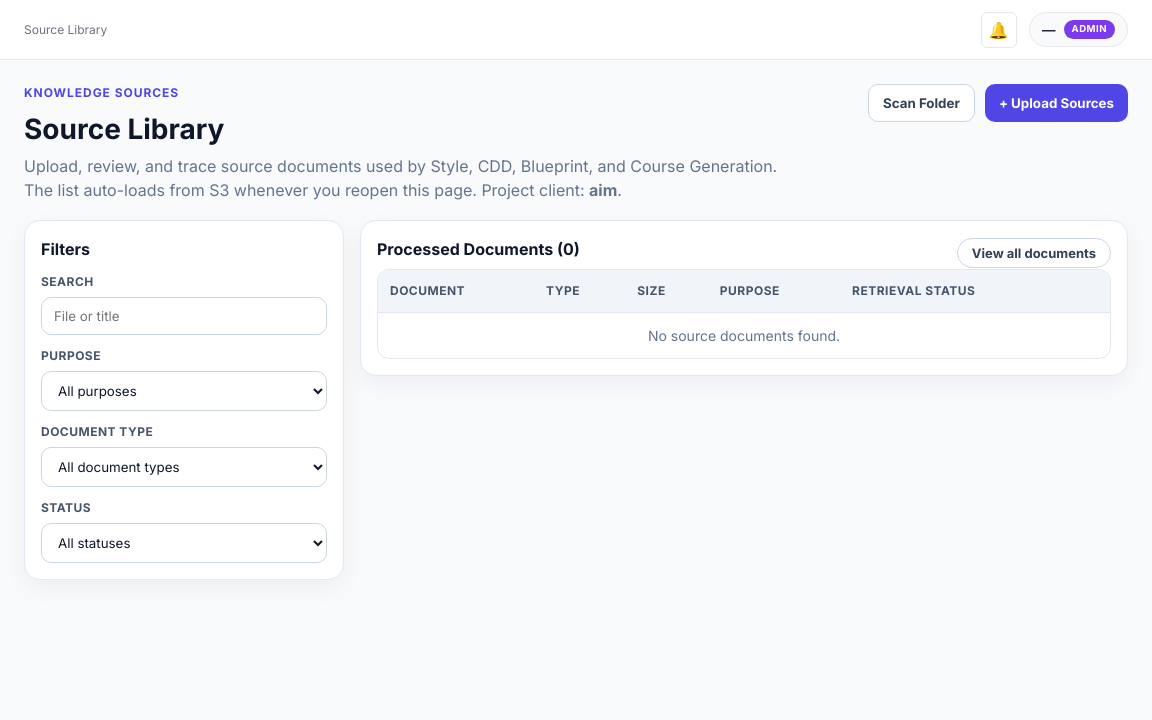
it: SourceLibraryPage upload metadata › preserves free-text document_type when no controlled values are configured
What coordinates should you click on to do the following:
click the button "+ Upload Sources"
I would click on:
 (1056, 103)
Its box is left=985, top=84, right=1128, bottom=122.
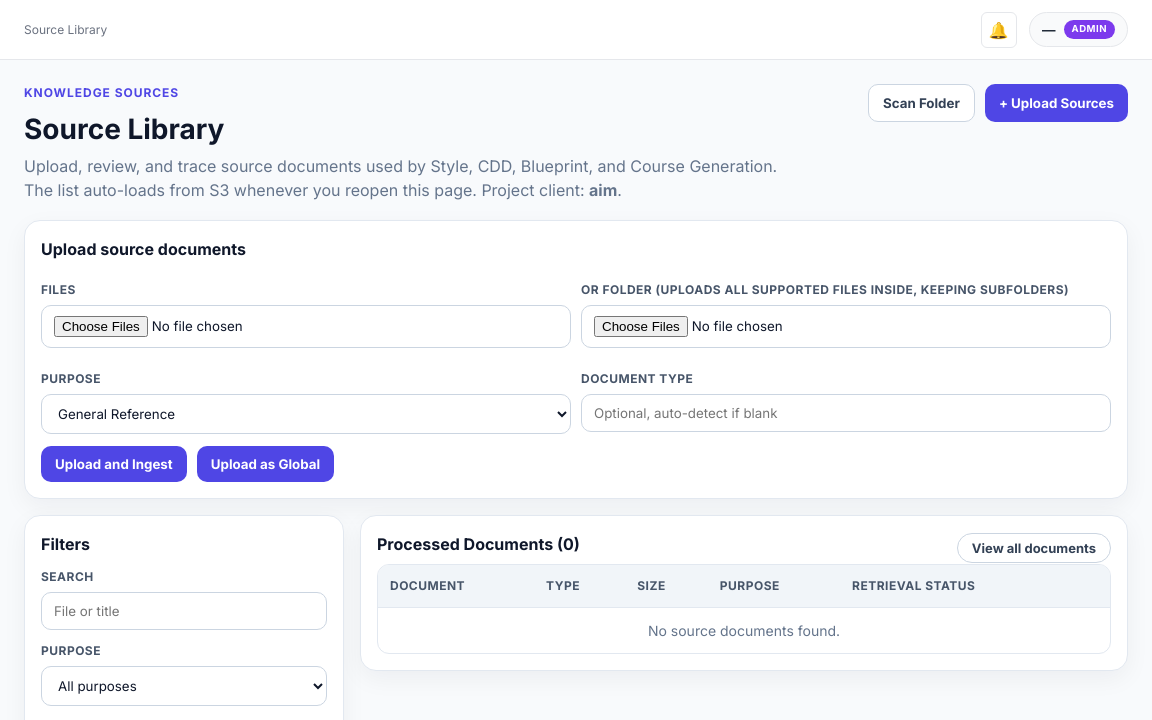
Check: the heading "Upload source documents" is shown, box left=41, top=239, right=246, bottom=259
Check: the field named "document_type" is shown, box left=581, top=394, right=1111, bottom=432
